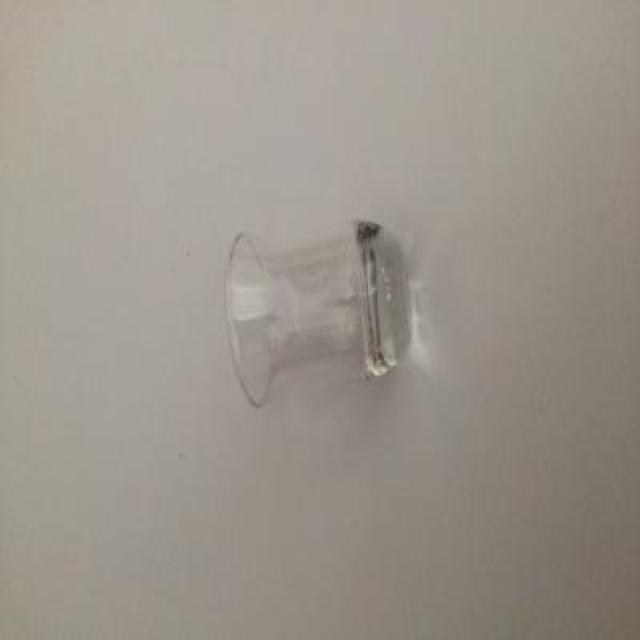glass: (217, 208, 425, 431)
